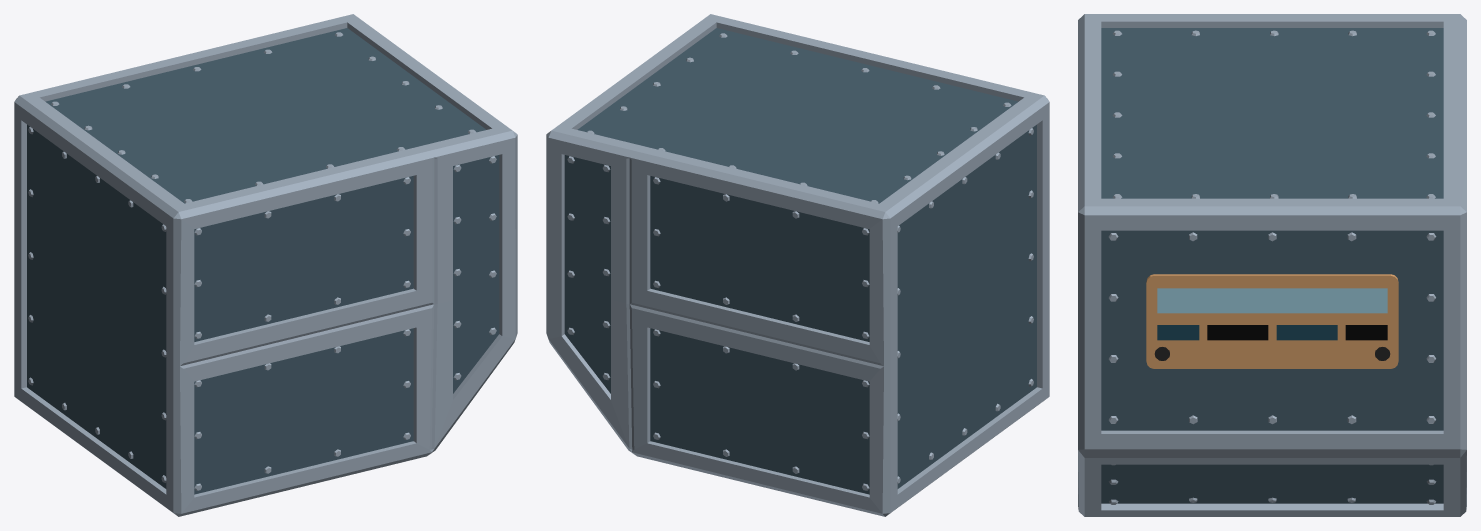
The model's file is 05_Container3_AIRPORT_0.obj.
3 views of the same model, side by side, from view 1: azimuth 30°, elevation 25°; view 2: azimuth 150°, elevation 25°; view 3: azimuth 270°, elevation 25° (orthographic). The views are drawn at different scales.
Visible parts, largest first — view 1: 05.Container3_AIRPORT_0; view 2: 05.Container3_AIRPORT_0; view 3: 05.Container3_AIRPORT_0.
Boxes of the visible parts, x1,y1,x2,y2 form: 05.Container3_AIRPORT_0: [14, 14, 517, 516]; 05.Container3_AIRPORT_0: [546, 14, 1049, 516]; 05.Container3_AIRPORT_0: [1078, 14, 1466, 516].
Size of the model in its own units: 4.48 by 3.79 by 3.72.
1 material, 1 textured.
